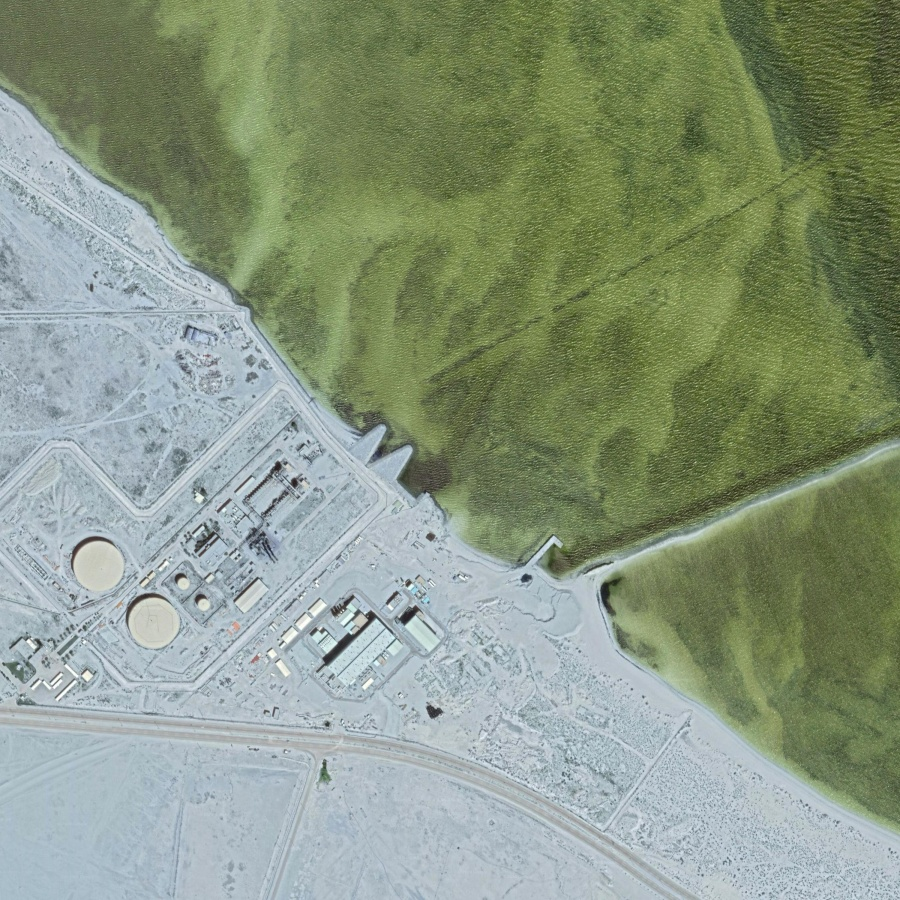PowerPlant: (50, 431, 455, 718)
